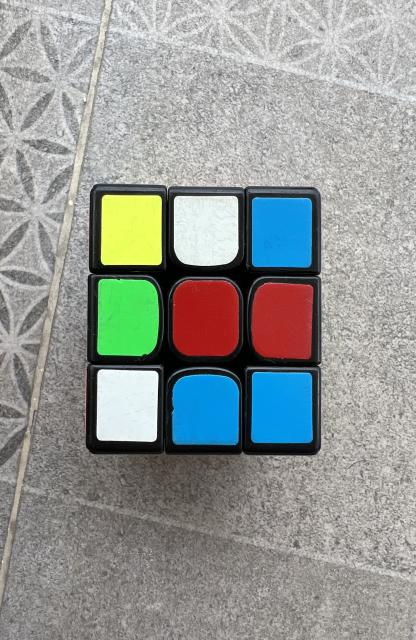Blue: (172, 375, 239, 445), (251, 372, 313, 444), (252, 198, 312, 268)
Green: (98, 279, 159, 356)
Red: (172, 280, 238, 356), (251, 282, 313, 359)
White: (173, 196, 238, 266), (96, 369, 158, 442)
Yellow: (101, 195, 162, 265)
